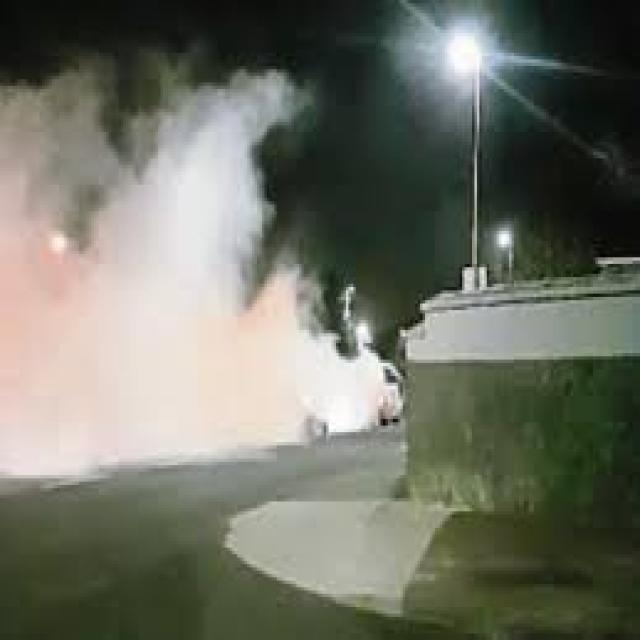Smoke: (0, 0, 388, 463)
